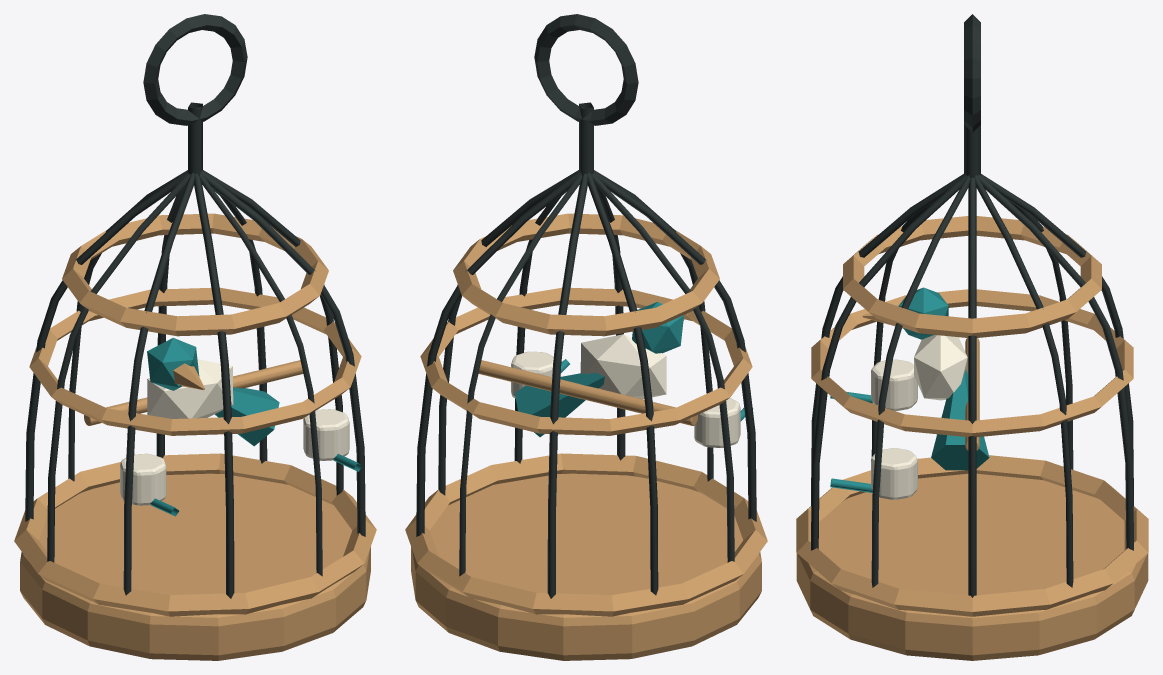
Rendered from birdcage-v2.glb.
The picture shows the model from 3 angles, left to right: view 1: azimuth 30°, elevation 25°; view 2: azimuth 150°, elevation 25°; view 3: azimuth 270°, elevation 25°; orthographic projection.
Visible parts, largest first — view 1: TRADITIONAL BIRD CAGE ASSEMBLY · Sun timber, TRADITIONAL BIRD CAGE ASSEMBLY · Ink, TRADITIONAL BIRD CAGE ASSEMBLY · Chalk, TRADITIONAL BIRD CAGE ASSEMBLY · Deep teal; view 2: TRADITIONAL BIRD CAGE ASSEMBLY · Sun timber, TRADITIONAL BIRD CAGE ASSEMBLY · Ink, TRADITIONAL BIRD CAGE ASSEMBLY · Chalk, TRADITIONAL BIRD CAGE ASSEMBLY · Deep teal; view 3: TRADITIONAL BIRD CAGE ASSEMBLY · Sun timber, TRADITIONAL BIRD CAGE ASSEMBLY · Ink, TRADITIONAL BIRD CAGE ASSEMBLY · Chalk, TRADITIONAL BIRD CAGE ASSEMBLY · Deep teal.
Boxes of the visible parts, bbox=[...] form: TRADITIONAL BIRD CAGE ASSEMBLY · Sun timber: bbox=[14, 213, 376, 660]; TRADITIONAL BIRD CAGE ASSEMBLY · Ink: bbox=[25, 14, 365, 598]; TRADITIONAL BIRD CAGE ASSEMBLY · Chalk: bbox=[120, 359, 349, 505]; TRADITIONAL BIRD CAGE ASSEMBLY · Deep teal: bbox=[147, 337, 362, 516]; TRADITIONAL BIRD CAGE ASSEMBLY · Sun timber: bbox=[405, 213, 767, 660]; TRADITIONAL BIRD CAGE ASSEMBLY · Ink: bbox=[416, 14, 756, 598]; TRADITIONAL BIRD CAGE ASSEMBLY · Chalk: bbox=[511, 334, 740, 447]; TRADITIONAL BIRD CAGE ASSEMBLY · Deep teal: bbox=[514, 302, 753, 437]; TRADITIONAL BIRD CAGE ASSEMBLY · Sun timber: bbox=[796, 216, 1148, 660]; TRADITIONAL BIRD CAGE ASSEMBLY · Ink: bbox=[811, 14, 1133, 597]; TRADITIONAL BIRD CAGE ASSEMBLY · Chalk: bbox=[871, 335, 967, 499]; TRADITIONAL BIRD CAGE ASSEMBLY · Deep teal: bbox=[830, 287, 989, 492].
Size of the model in its own units: 1.48 by 2.58 by 1.44.
